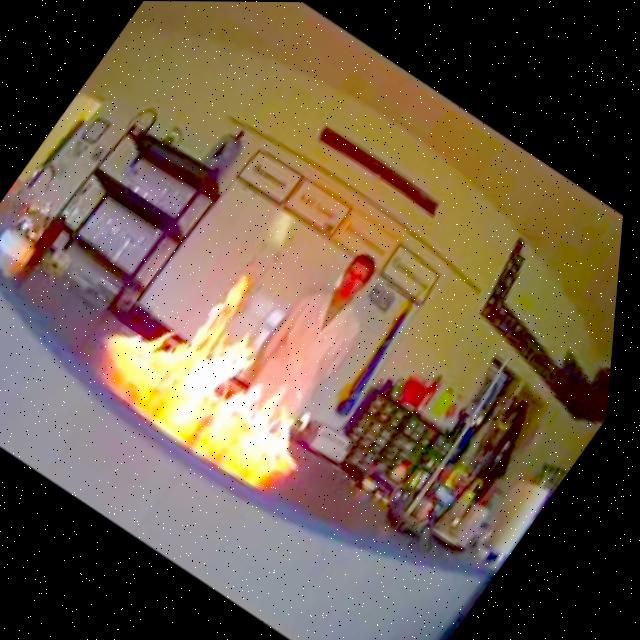Fire: (94, 228, 393, 478)
